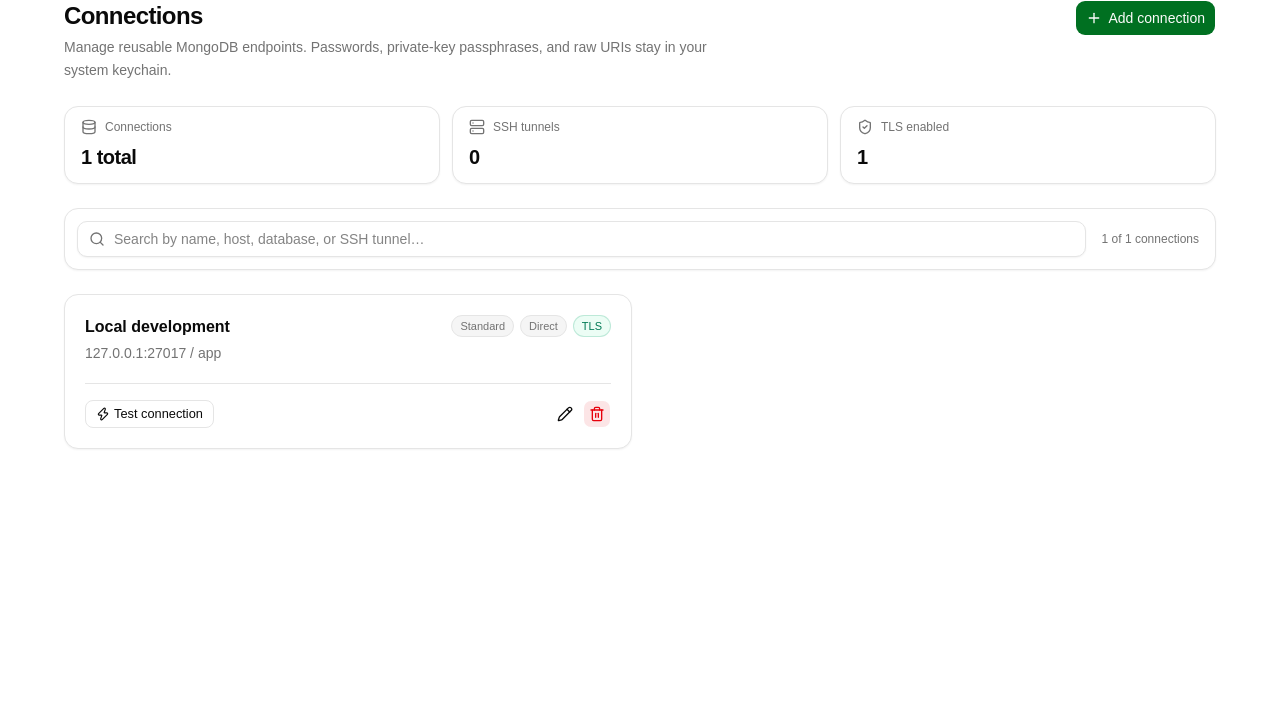
Test case: ConnectionsScreen › keeps the confirmation open and explains a failed deletion
Click the button named "delete local development" at (597, 414), box [583,400,611,428]
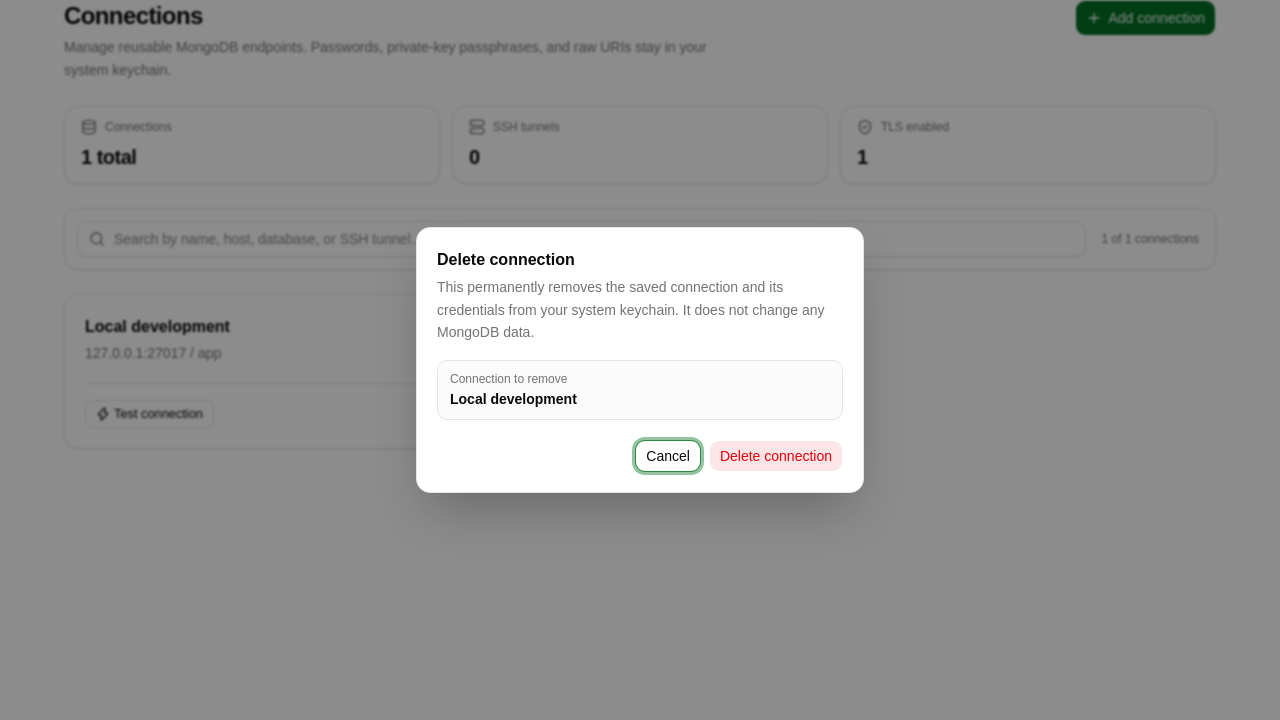
Click the button "Delete connection" at (776, 456), box [709,440,843,472]
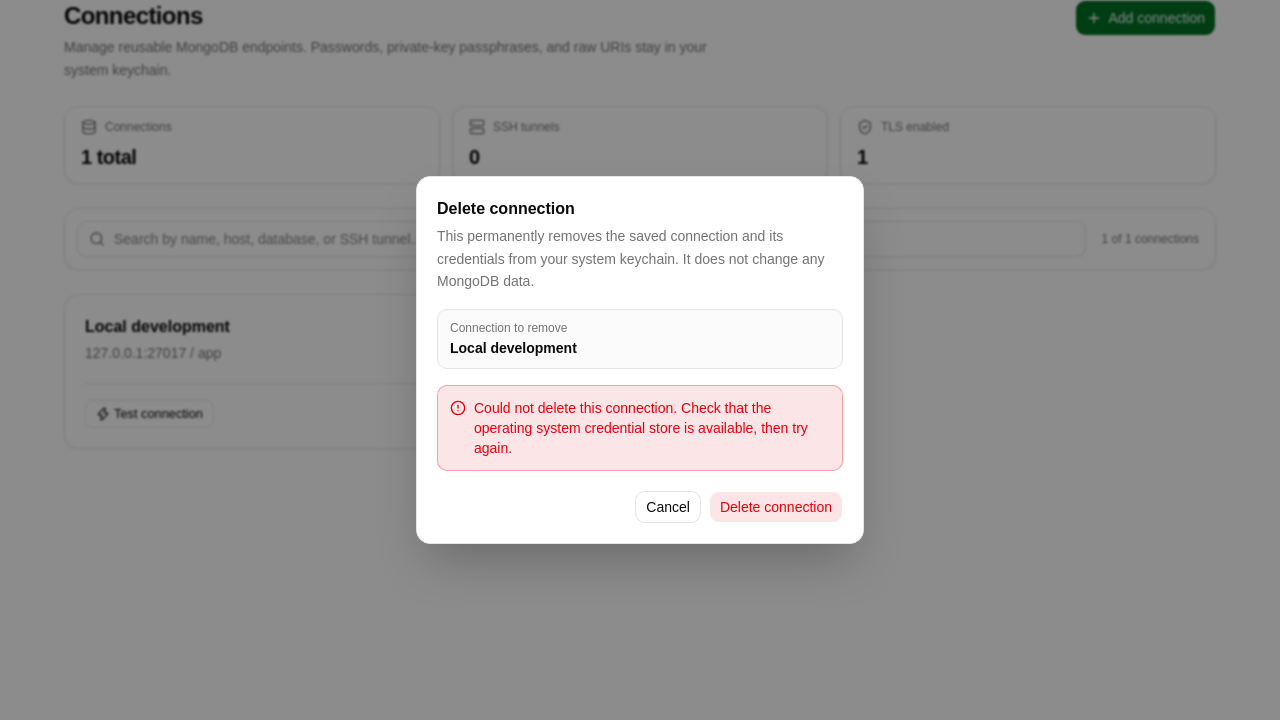
expect the dialog "Delete connection" is shown: met, box [416,176,864,544]
expect the message shows "Could not delete this connection": met, box [474,400,808,456]
